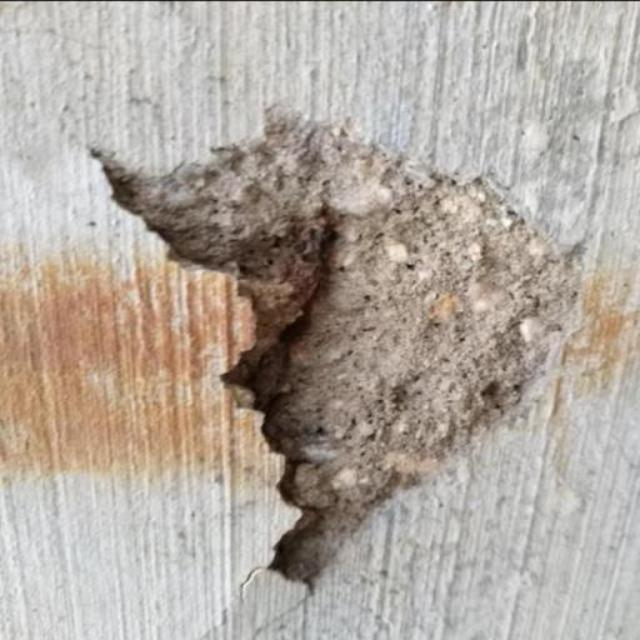D10: (90, 110, 577, 586)
